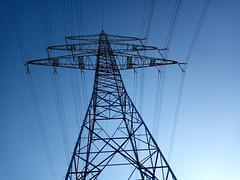power_tower: (23, 23, 192, 180)
